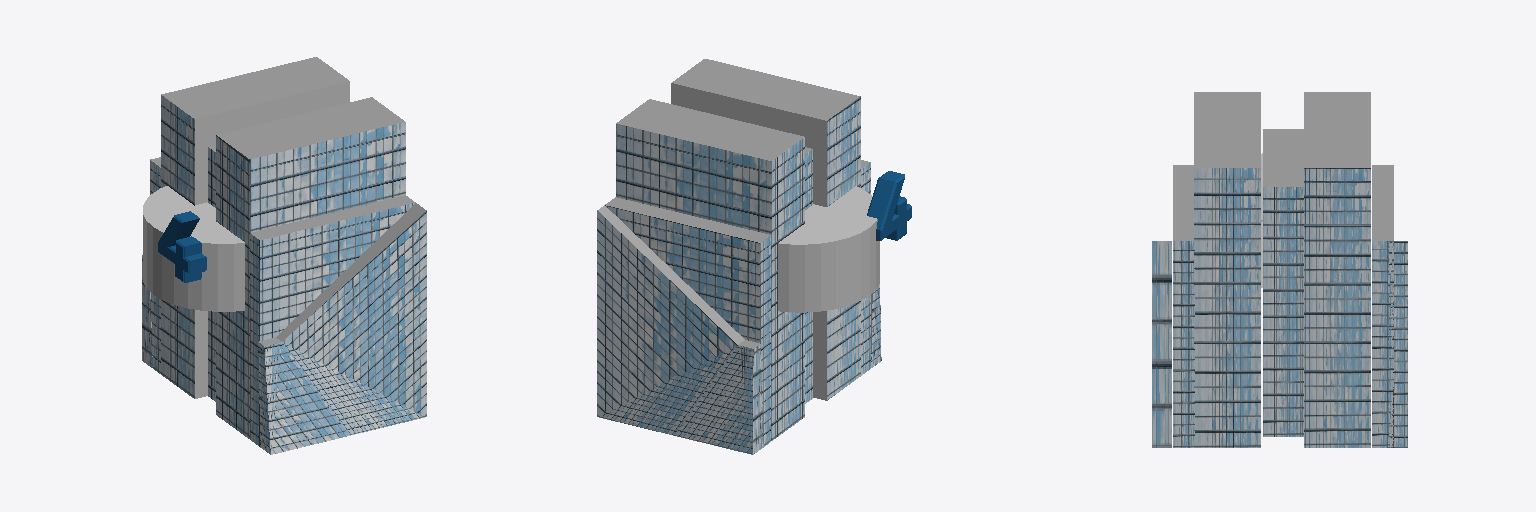
3 renders of one model, left to right at view 1: azimuth 30°, elevation 25°; view 2: azimuth 150°, elevation 25°; view 3: azimuth 270°, elevation 25°, orthographic.
Parts seen in each view (by area): view 1: Cube.002_Material.001, Cube.002_Material, Cube.002_Material.012, Cube.002_, Cube.002_Material.008, Cube.002_Material.011; view 2: Cube.002_Material.001, Cube.002_Material, Cube.002_Material.012, Cube.002_, Cube.002_Material.008, Cube.002_Material.011; view 3: Cube.002_Material.001, Cube.002_Material.
Part boxes in pixels (x1,y1,x2,y2): Cube.002_Material.001: (142, 95, 426, 454); Cube.002_Material: (150, 57, 425, 345); Cube.002_Material.012: (143, 215, 244, 311); Cube.002_: (150, 81, 349, 398); Cube.002_Material.008: (143, 186, 244, 243); Cube.002_Material.011: (158, 211, 206, 282); Cube.002_Material.001: (597, 96, 881, 454); Cube.002_Material: (598, 59, 869, 348); Cube.002_Material.012: (778, 219, 879, 312); Cube.002_: (671, 83, 872, 400); Cube.002_Material.008: (779, 186, 876, 244); Cube.002_Material.011: (867, 171, 911, 240); Cube.002_Material.001: (1152, 168, 1407, 447); Cube.002_Material: (1173, 92, 1393, 240).
Bounding box in the file's own units: 110 × 138 × 115.
6 materials, 3 textured.